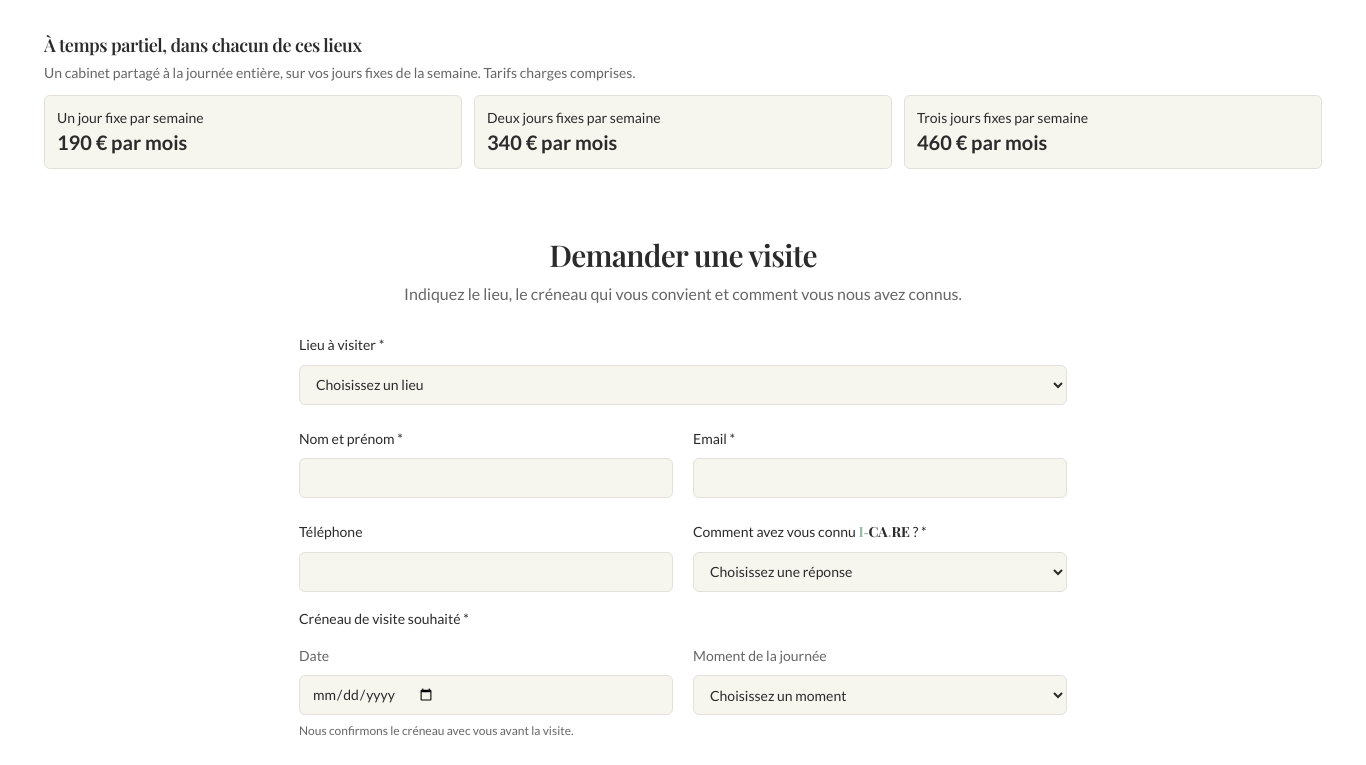
Test: demande de visite › F5 date passee refusee
(page scrolled)
Step 1. Select "I‑CA.RE Le Bouscat" in the dropdown labelled "Lieu à visiter *" → x=683, y=384, box [299,364,1067,404]
Step 2. Type "Personne Fictive" into the field labelled "Nom et prénom *" → x=486, y=478, box [299,458,673,498]
Step 3. Type "personne@example.invalid" into the field labelled "Email *" → x=880, y=478, box [693,458,1067,498]
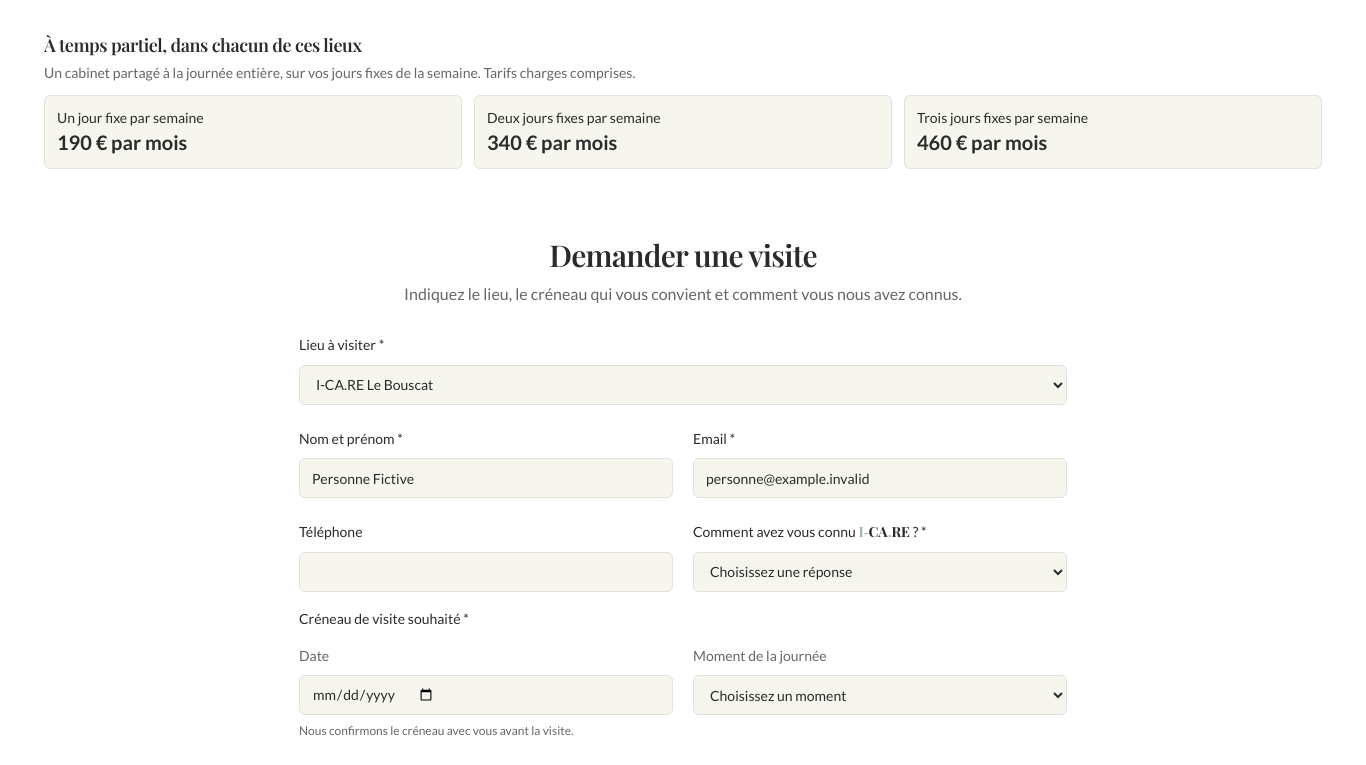
Step 4. Select "LinkedIn" in the dropdown labelled "Comment avez vous connu I‑CA.RE ? *" → x=880, y=572, box [693,552,1067,592]
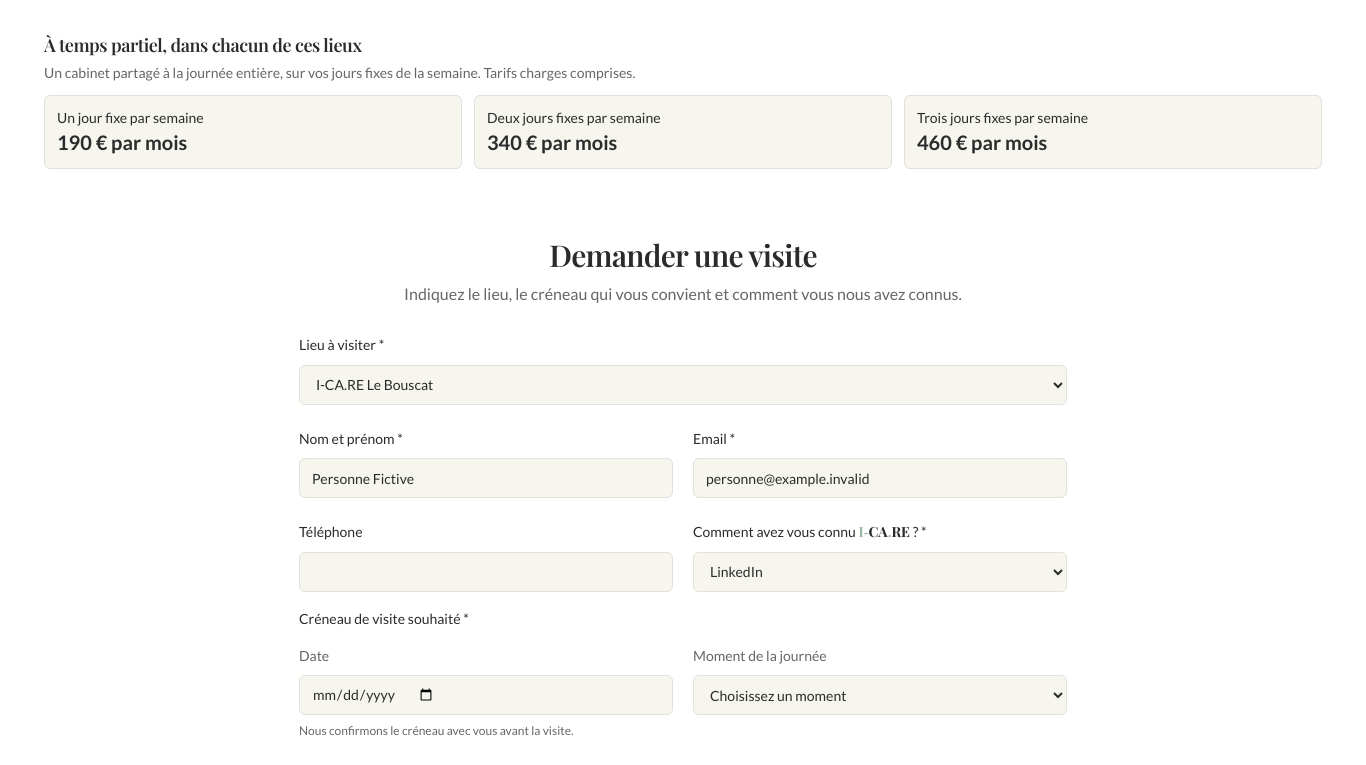
Step 5. Type "2020-01-01" into the date field labelled "Date" → x=486, y=695, box [299,675,673,715]
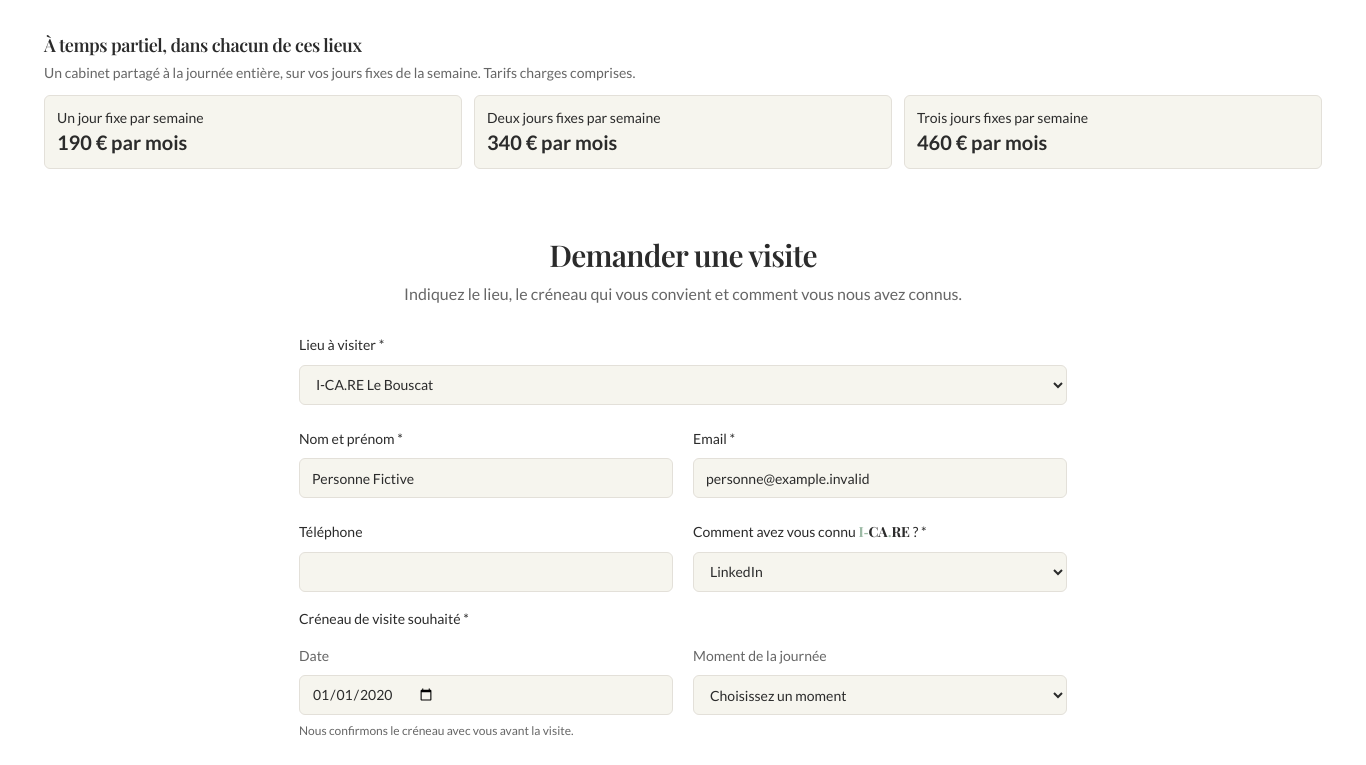
Step 6. Select "Matin (9 h à 12 h)" in the dropdown labelled "Moment de la journée" → x=880, y=695, box [693,675,1067,715]
(page scrolled)
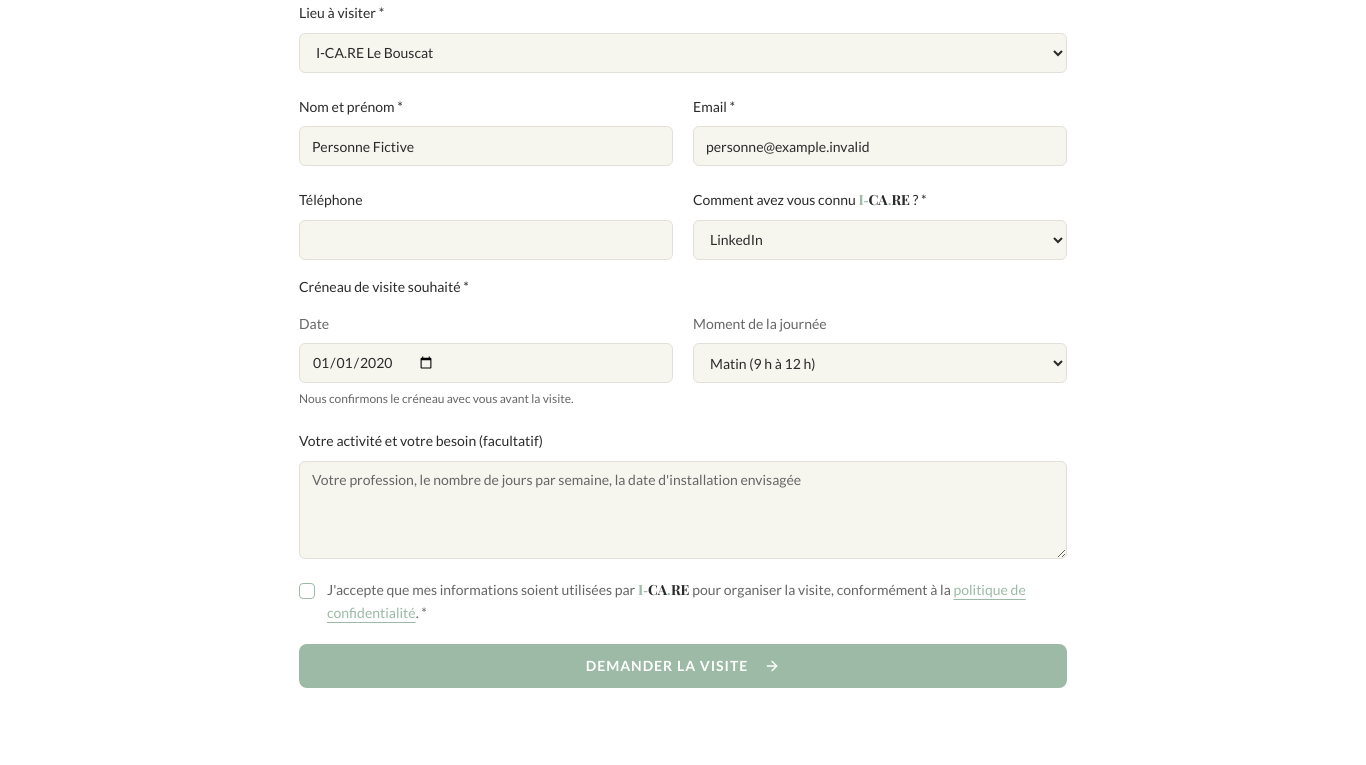
Step 7. Click the checkbox → x=307, y=591, box [299,583,315,599]
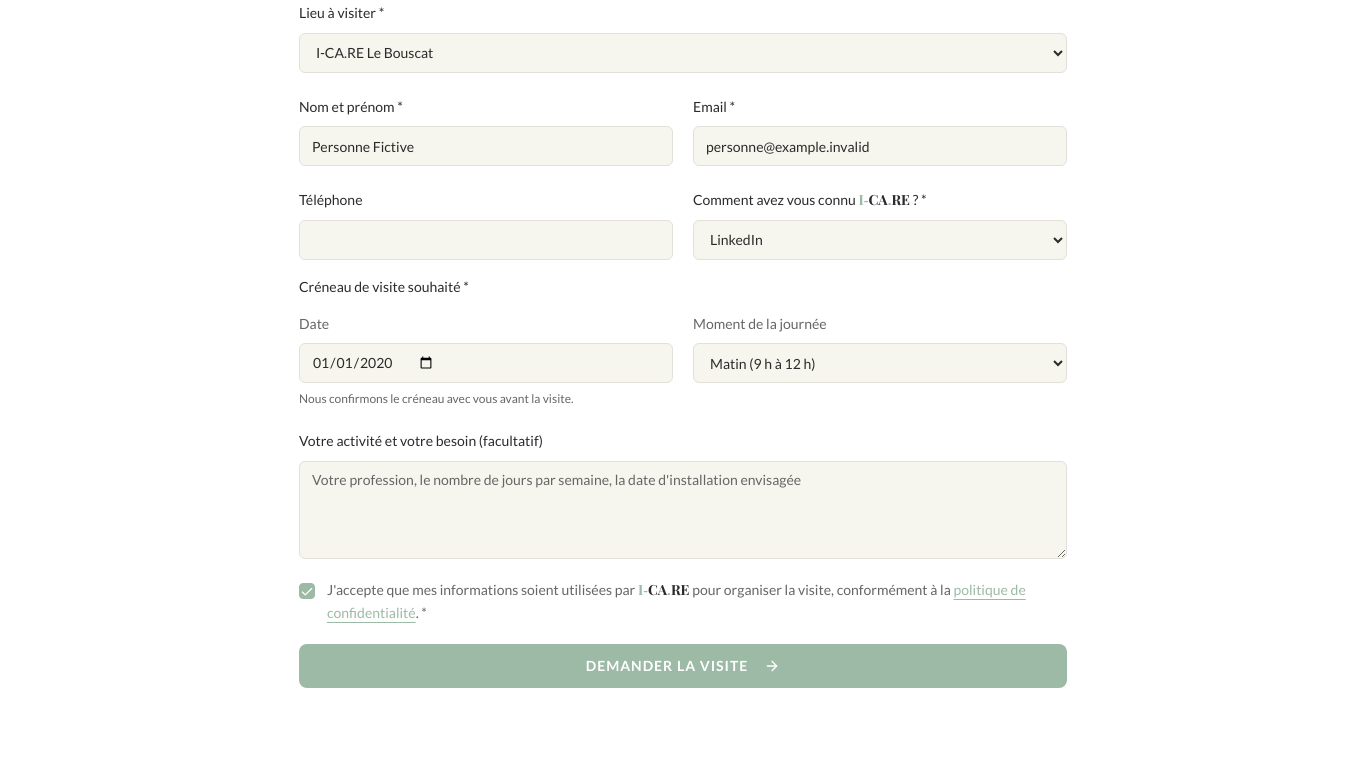
Step 8. Click the button "Demander la visite" → x=683, y=666, box [299,644,1067,688]
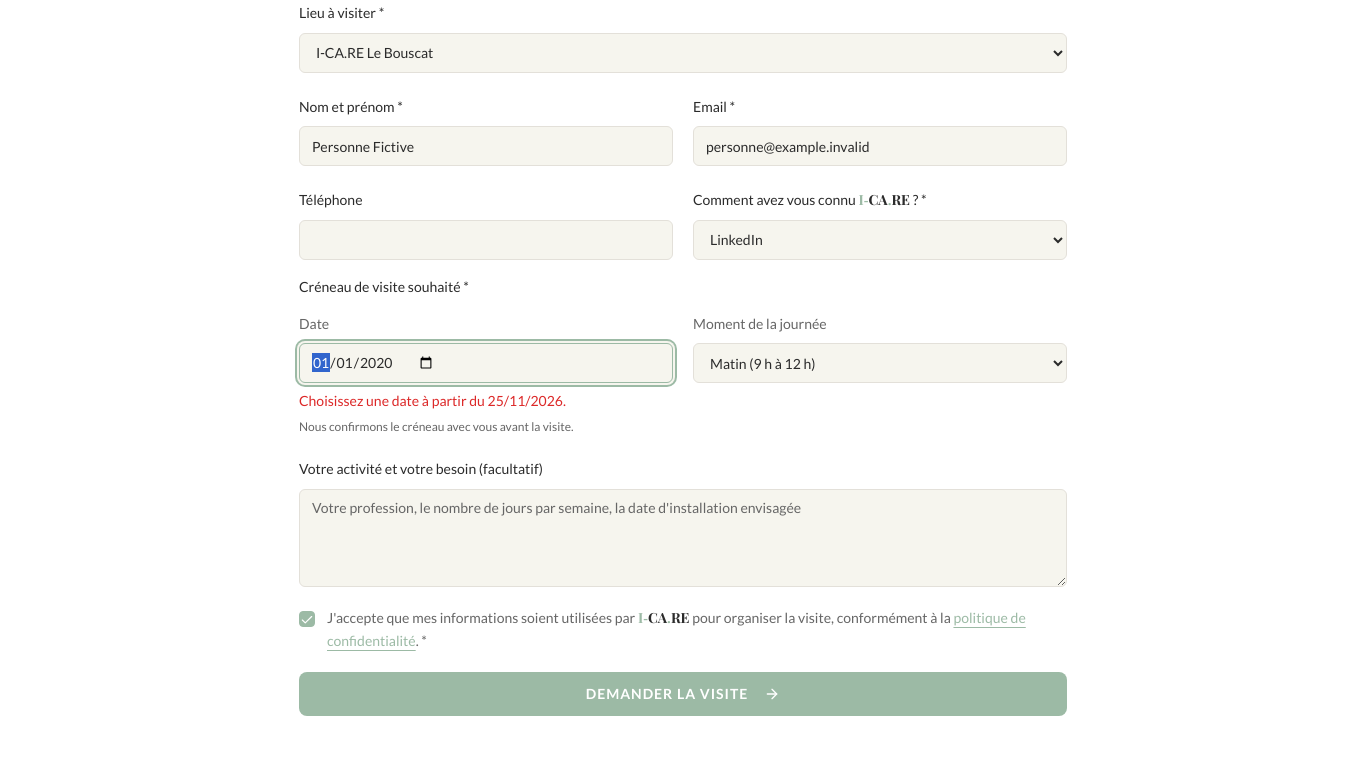
Now the date field labelled "Date" is marked as invalid, box [299,343,673,383]
